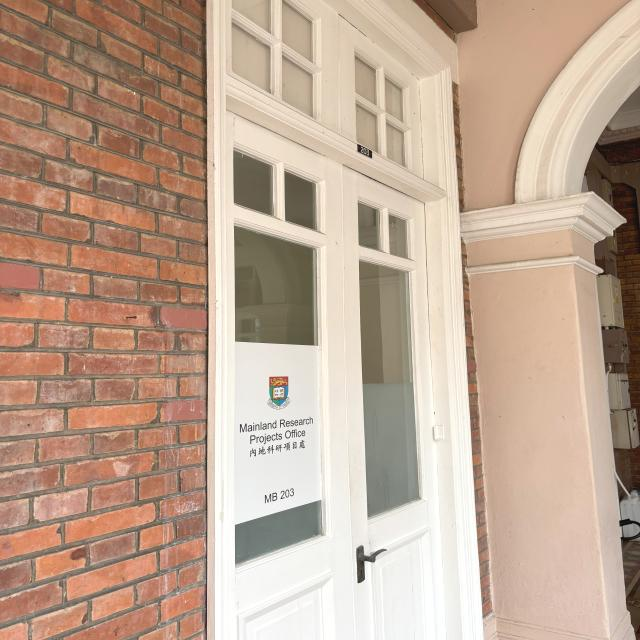MB203_bannerNumber: (258, 481, 300, 509)
MB203_roomNum: (355, 141, 374, 161)
